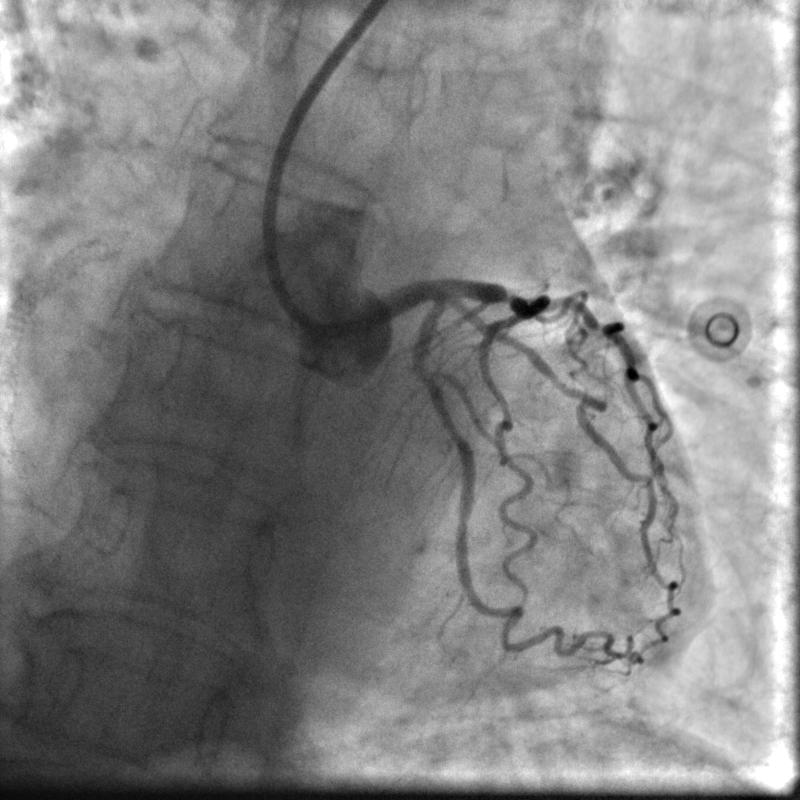Stenosis: (412, 358, 437, 383)
